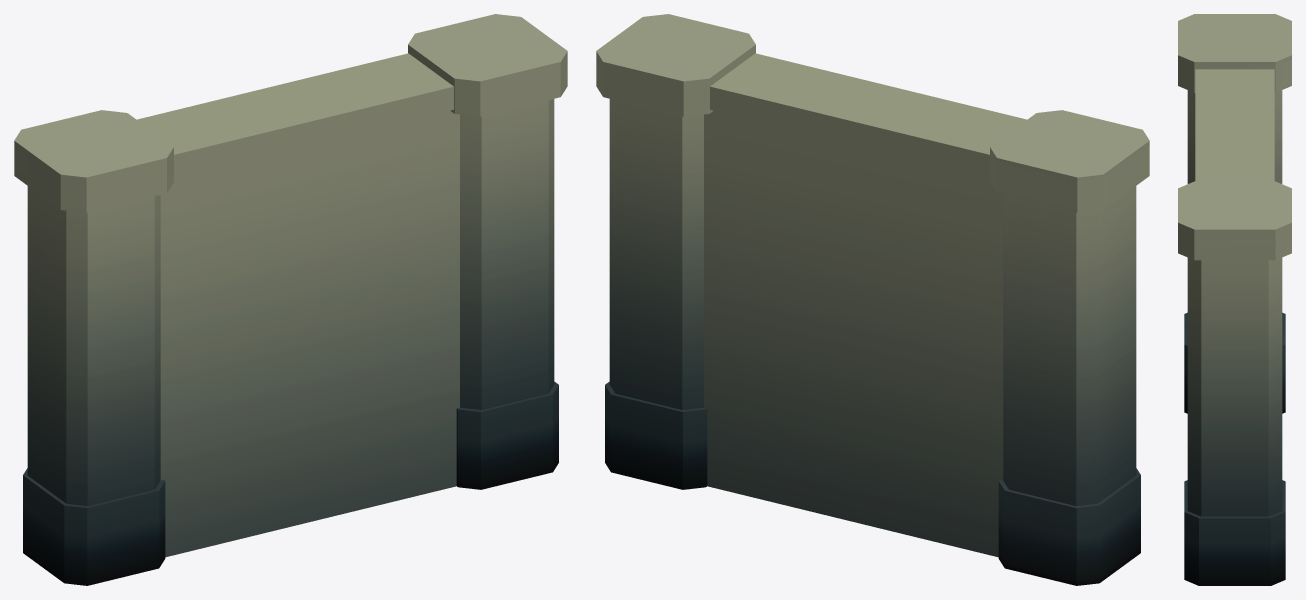
Rendered from barricade.fbx.
The picture shows the model from 3 angles, left to right: view 1: azimuth 30°, elevation 25°; view 2: azimuth 150°, elevation 25°; view 3: azimuth 270°, elevation 25°; orthographic projection. The views are drawn at different scales.
Parts seen in each view (by area): view 1: Cube.003; view 2: Cube.003; view 3: Cube.003.
Boxes of the visible parts, x1,y1,x2,y2 form: Cube.003: (14, 14, 567, 585); Cube.003: (596, 14, 1149, 585); Cube.003: (1178, 14, 1291, 585).
Bounding box in the file's own units: 5.02 × 3.9 × 1.12.
